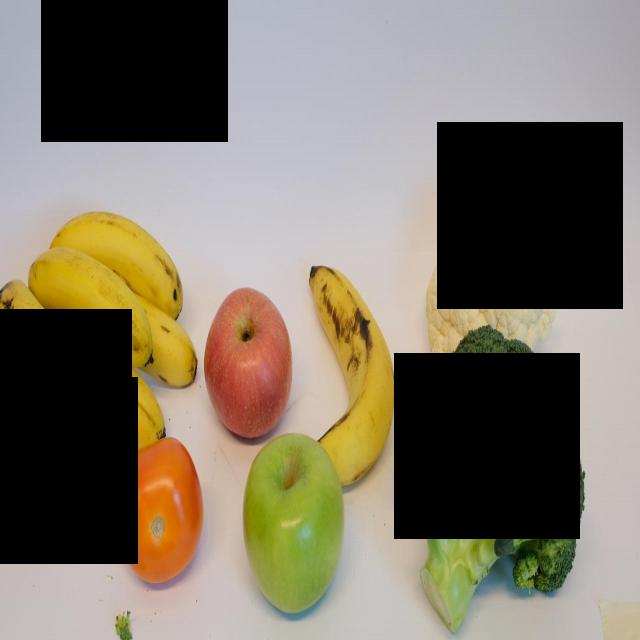apple: (243, 431, 344, 616), (203, 284, 293, 443)
banana: (308, 262, 394, 490), (29, 240, 157, 368), (52, 315, 174, 446), (0, 272, 98, 432), (49, 208, 186, 318), (13, 370, 106, 517)
broccoli: (408, 324, 588, 635)
cauliflower: (419, 187, 563, 359)
tomato: (117, 438, 206, 584)
